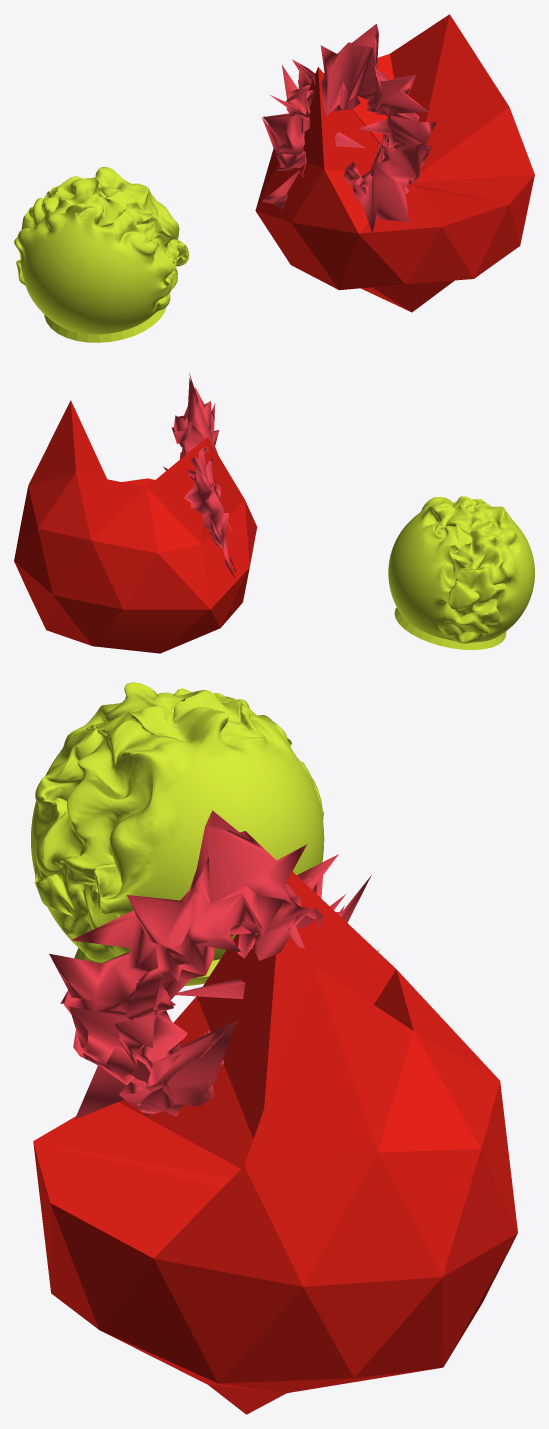
The model's file is alltogether.glb.
3 views of the same model, one above another, from view 1: azimuth 30°, elevation 25°; view 2: azimuth 150°, elevation 25°; view 3: azimuth 270°, elevation 25° (orthographic). The views are drawn at different scales.
Visible parts, largest first — view 1: Icosphere, Quad Sphere, Torus; view 2: Icosphere, Quad Sphere, Torus; view 3: Icosphere, Quad Sphere, Torus.
Boxes of the visible parts, box(x1,y1,x2,y2) form: Icosphere: box(255, 14, 534, 312); Quad Sphere: box(14, 167, 189, 342); Torus: box(261, 24, 436, 233); Icosphere: box(14, 400, 256, 653); Quad Sphere: box(388, 496, 534, 649); Torus: box(163, 372, 235, 578); Icosphere: box(33, 871, 517, 1414); Quad Sphere: box(31, 682, 324, 985); Torus: box(49, 810, 379, 1119).
Size of the model in its own units: 4.78 by 2.73 by 2.13.
